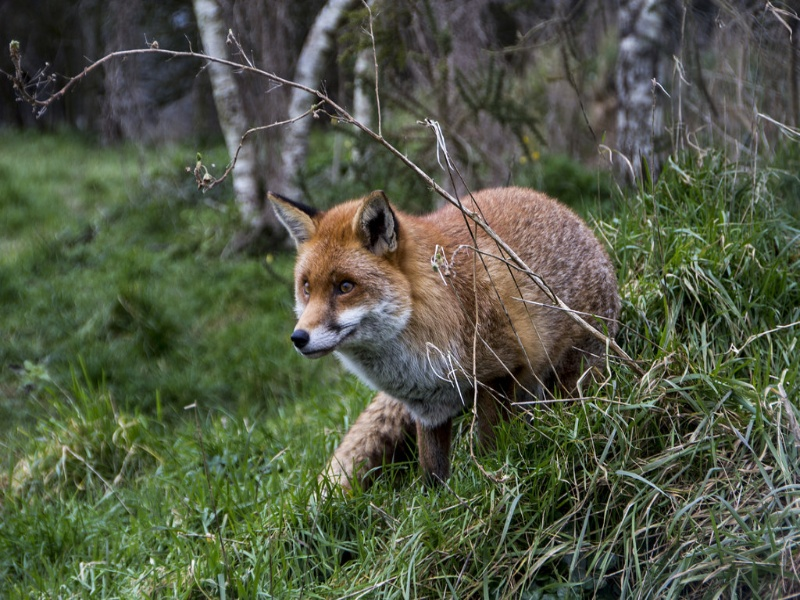fox: (257, 175, 631, 519)
